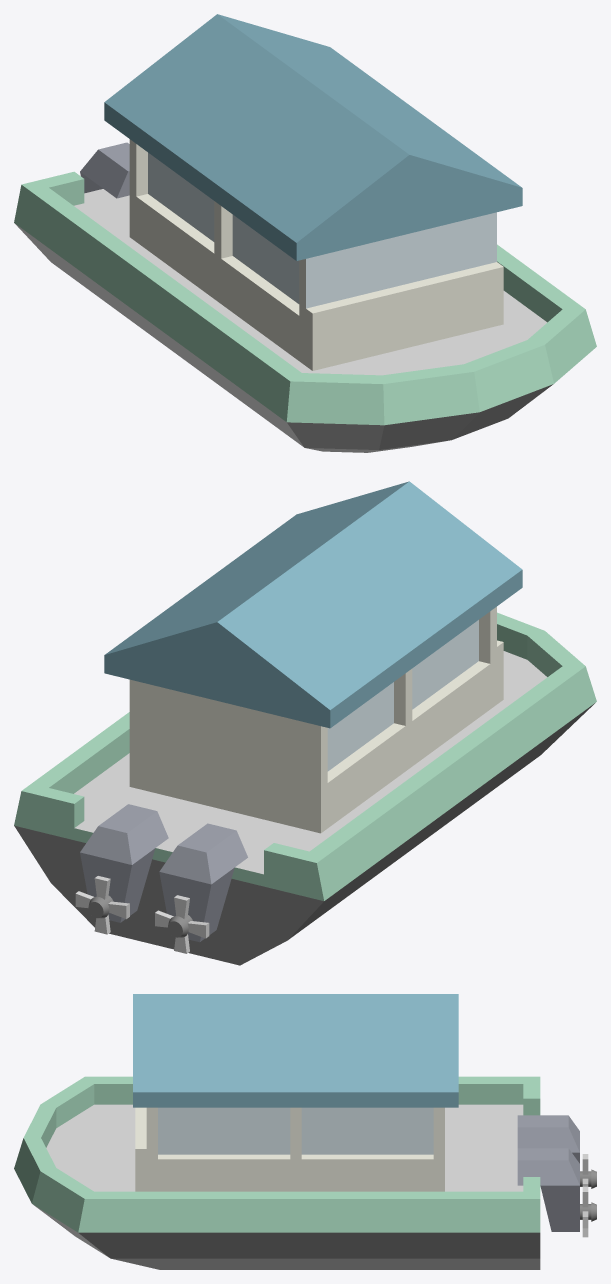
File: watercraftPack_001.glb
3 renders of one model, top to bottom at view 1: azimuth 30°, elevation 25°; view 2: azimuth 150°, elevation 25°; view 3: azimuth 270°, elevation 25°, orthographic. The views are drawn at different scales.
Visible parts, largest first — view 1: Mesh5 Group1 Model, Mesh2 Group3 Group1 Model; view 2: Mesh5 Group1 Model, Mesh2 Group3 Group1 Model, Mesh1 Group2 Group1 Model, Mesh3 Group4 Group1 Model, Mesh4 Group5 Group1 Model; view 3: Mesh5 Group1 Model, Mesh1 Group2 Group1 Model, Mesh2 Group3 Group1 Model.
Boxes of the visible parts, x1,y1,x2,y2 form: Mesh5 Group1 Model: (14,14,596,452); Mesh2 Group3 Group1 Model: (80,142,129,198); Mesh5 Group1 Model: (14,481,596,965); Mesh2 Group3 Group1 Model: (159,823,247,942); Mesh1 Group2 Group1 Model: (80,804,168,922); Mesh3 Group4 Group1 Model: (155,895,209,953); Mesh4 Group5 Group1 Model: (75,876,129,934); Mesh5 Group1 Model: (14,994,540,1269); Mesh1 Group2 Group1 Model: (517,1148,596,1231); Mesh2 Group3 Group1 Model: (517,1115,596,1188).
Size of the model in its own units: 2.68 by 2.4 by 5.14.
